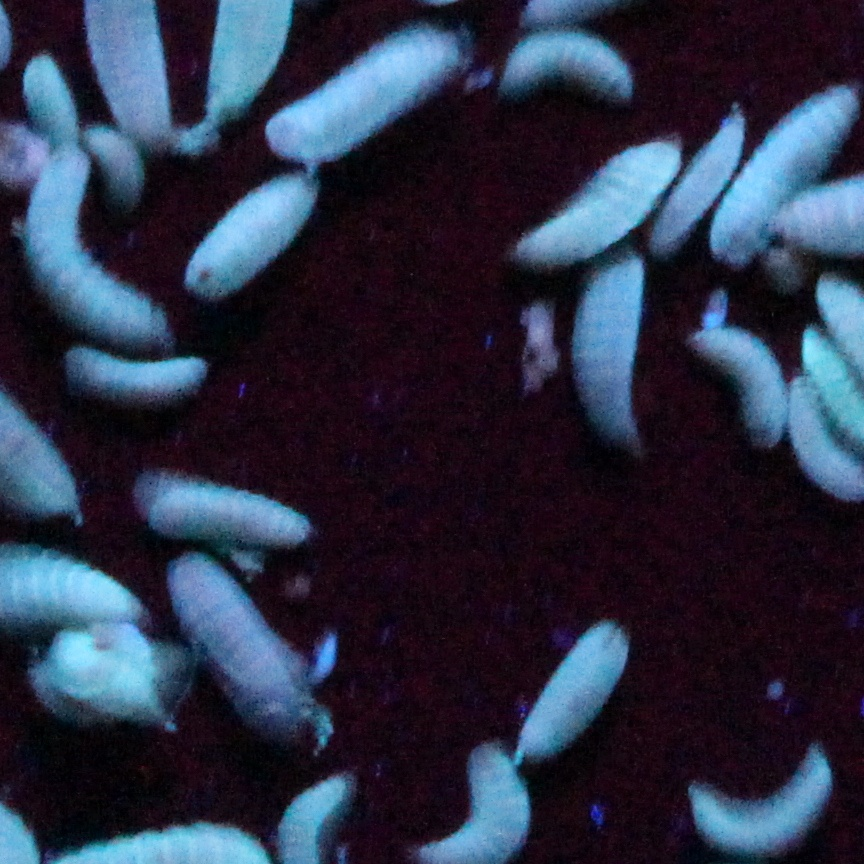larve: (705, 79, 863, 258), (167, 556, 322, 733), (36, 144, 169, 337), (269, 23, 467, 150), (503, 135, 688, 260), (513, 619, 628, 762), (686, 744, 832, 856), (640, 108, 744, 250), (188, 177, 317, 287), (578, 250, 647, 452), (690, 321, 790, 448), (142, 475, 317, 546), (499, 29, 634, 96), (72, 344, 209, 404), (92, 123, 151, 206)
